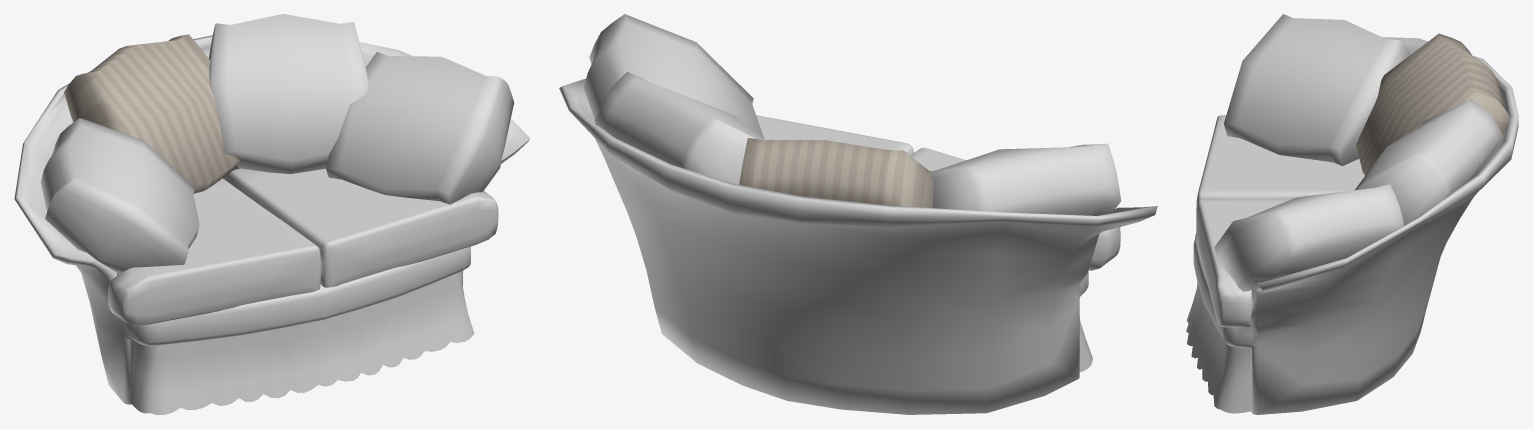
File: Settee.fbx
3 renders of one model, left to right at view 1: azimuth 30°, elevation 25°; view 2: azimuth 150°, elevation 25°; view 3: azimuth 270°, elevation 25°, orthographic. The views are drawn at different scales.
Parts seen in each view (by area): view 1: Main_Cushions, Lower_Cover, Cushion (4), Cushion (2), Main_Settee, Cushion (3), Cushion (1); view 2: Main_Settee, Cushion (3), Cushion (1), Cushion (2), Cushion (4), Main_Cushions; view 3: Main_Settee, Cushion (3), Main_Cushions, Cushion (4), Cushion (1), Cushion (2), Lower_Cover.
Boxes of the visible parts, bbox=[...] form: Main_Cushions: bbox=[107, 168, 498, 325]; Lower_Cover: bbox=[130, 270, 474, 414]; Cushion (4): bbox=[326, 52, 514, 204]; Cushion (2): bbox=[208, 14, 368, 173]; Main_Settee: bbox=[14, 35, 530, 404]; Cushion (3): bbox=[41, 118, 199, 274]; Cushion (1): bbox=[64, 34, 239, 193]; Main_Settee: bbox=[559, 78, 1157, 414]; Cushion (3): bbox=[930, 143, 1121, 215]; Cushion (1): bbox=[739, 138, 933, 207]; Cushion (2): bbox=[594, 71, 763, 184]; Cushion (4): bbox=[583, 14, 764, 139]; Main_Cushions: bbox=[756, 115, 1120, 270]; Main_Settee: bbox=[1193, 37, 1518, 414]; Cushion (3): bbox=[1224, 14, 1410, 165]; Main_Cushions: bbox=[1196, 115, 1364, 327]; Cushion (4): bbox=[1214, 184, 1404, 291]; Cushion (1): bbox=[1356, 33, 1509, 175]; Cushion (2): bbox=[1355, 99, 1503, 225]; Lower_Cover: bbox=[1186, 282, 1251, 413].
Bounding box in the file's own units: 441 × 227 × 270.
